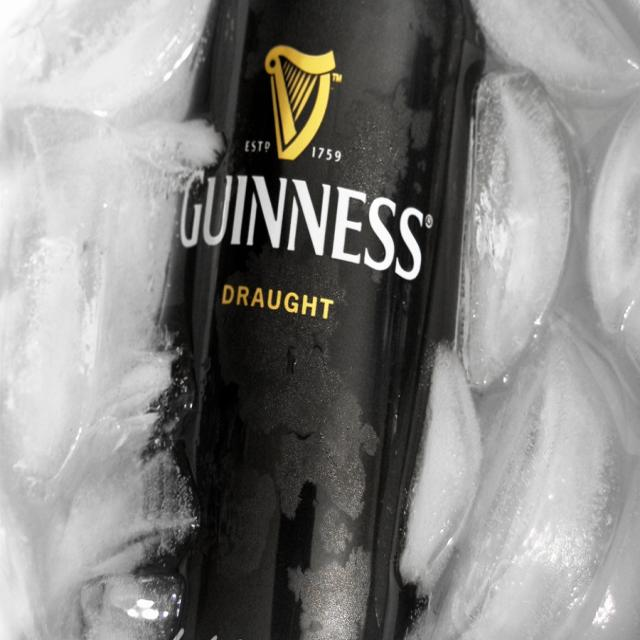guiness: (178, 43, 429, 289)
